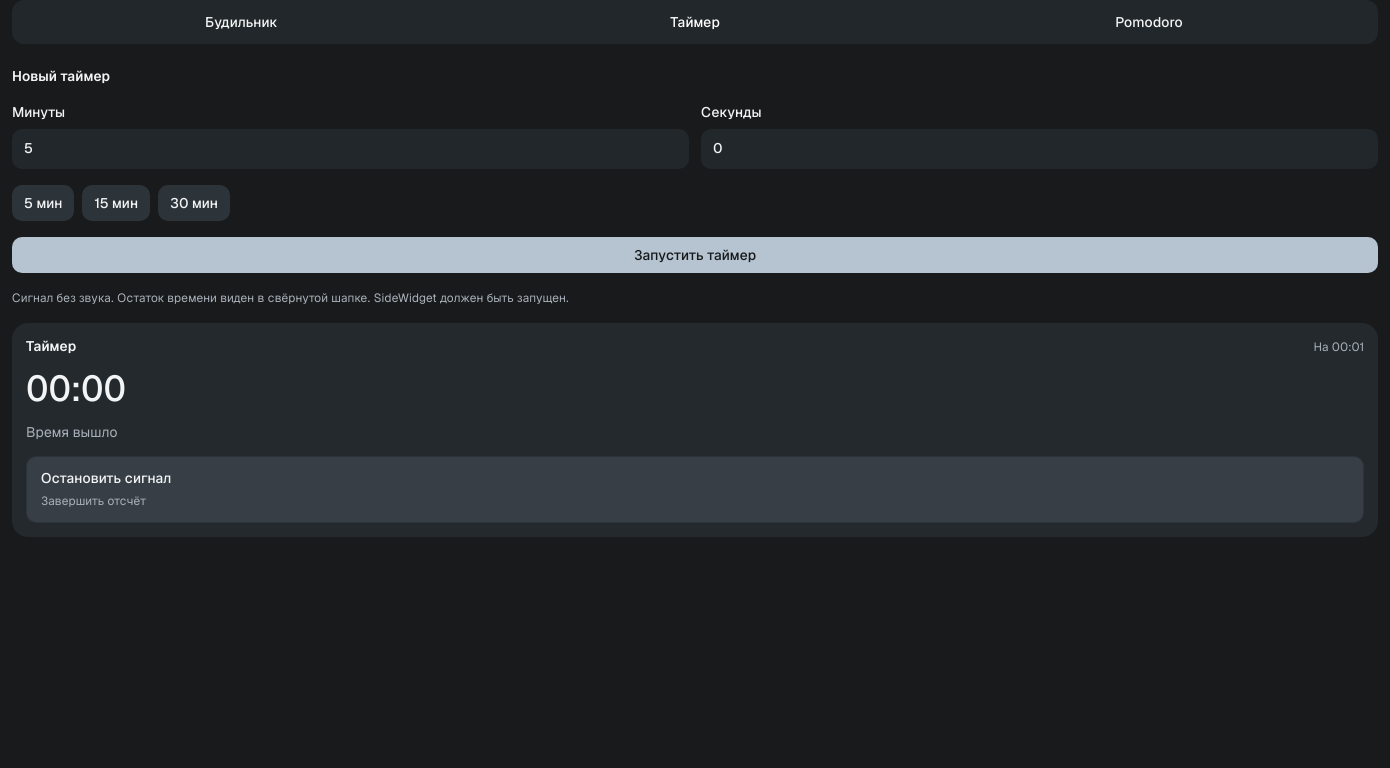
restores an overdue persisted session and rejects invalid duration
The image size is (1390, 768).
Click the button "Остановить сигнал Завершить отсчёт".
click(106, 478)  # box top-left (26, 456), bottom-right (1364, 523)
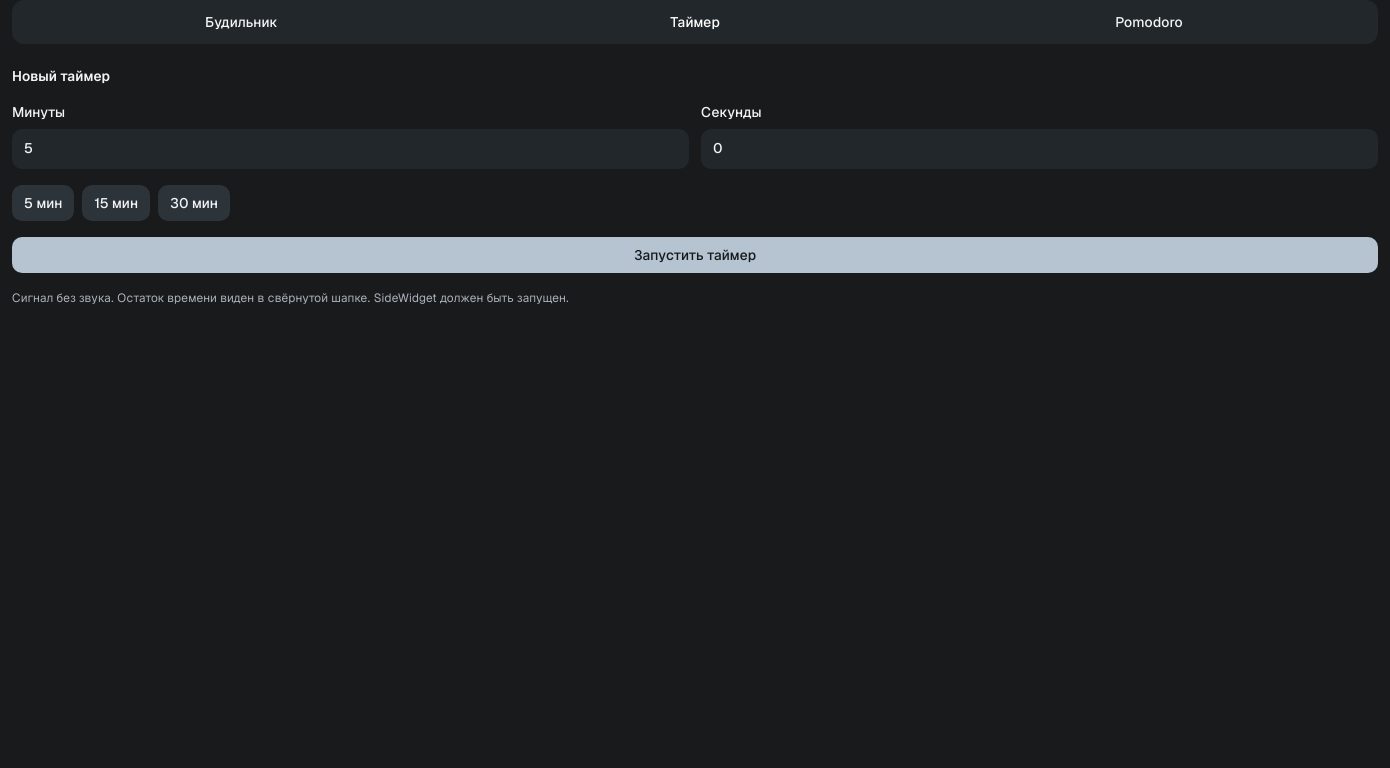
Replace the text in the number field labelled "Минуты" with "0" at (350, 149), box top-left (12, 129), bottom-right (689, 169)
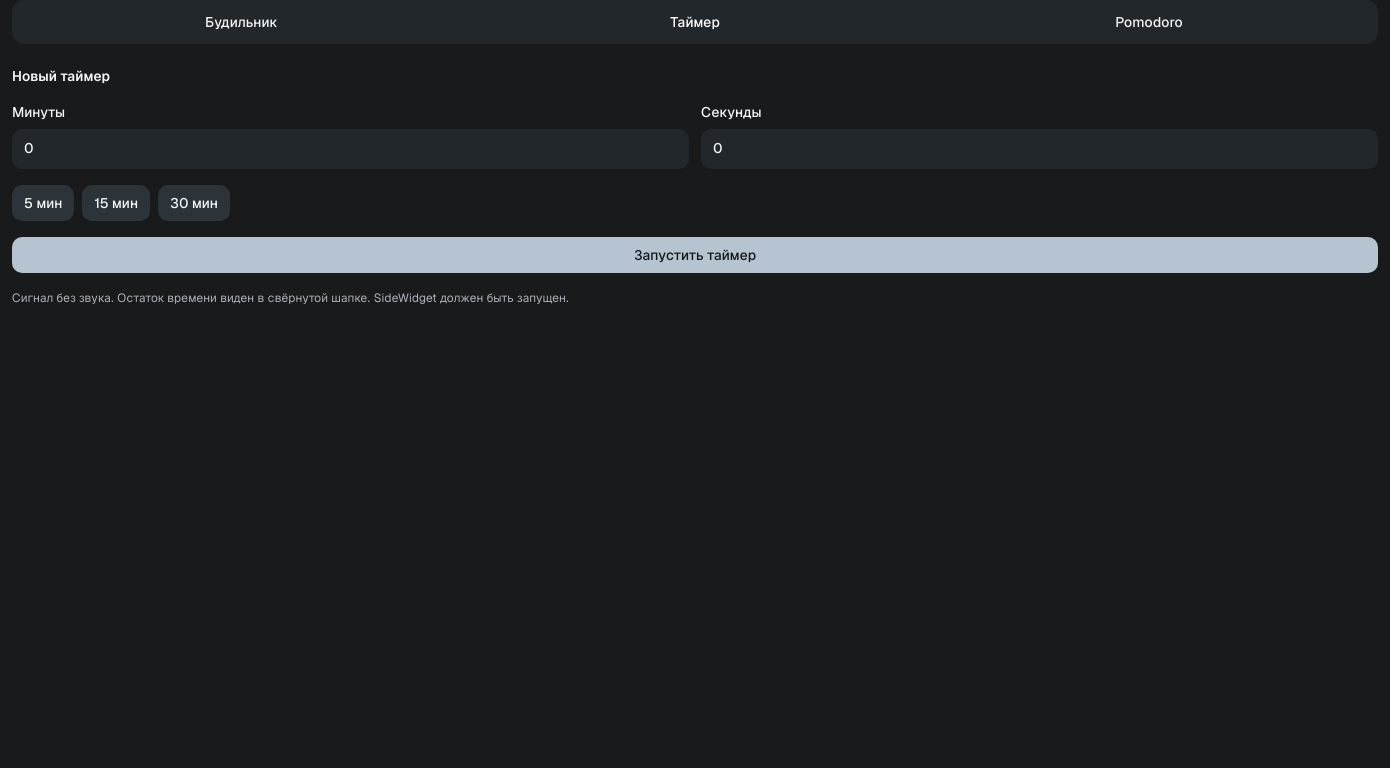
Click the button "Запустить таймер".
click(695, 255)  # box top-left (12, 237), bottom-right (1378, 273)
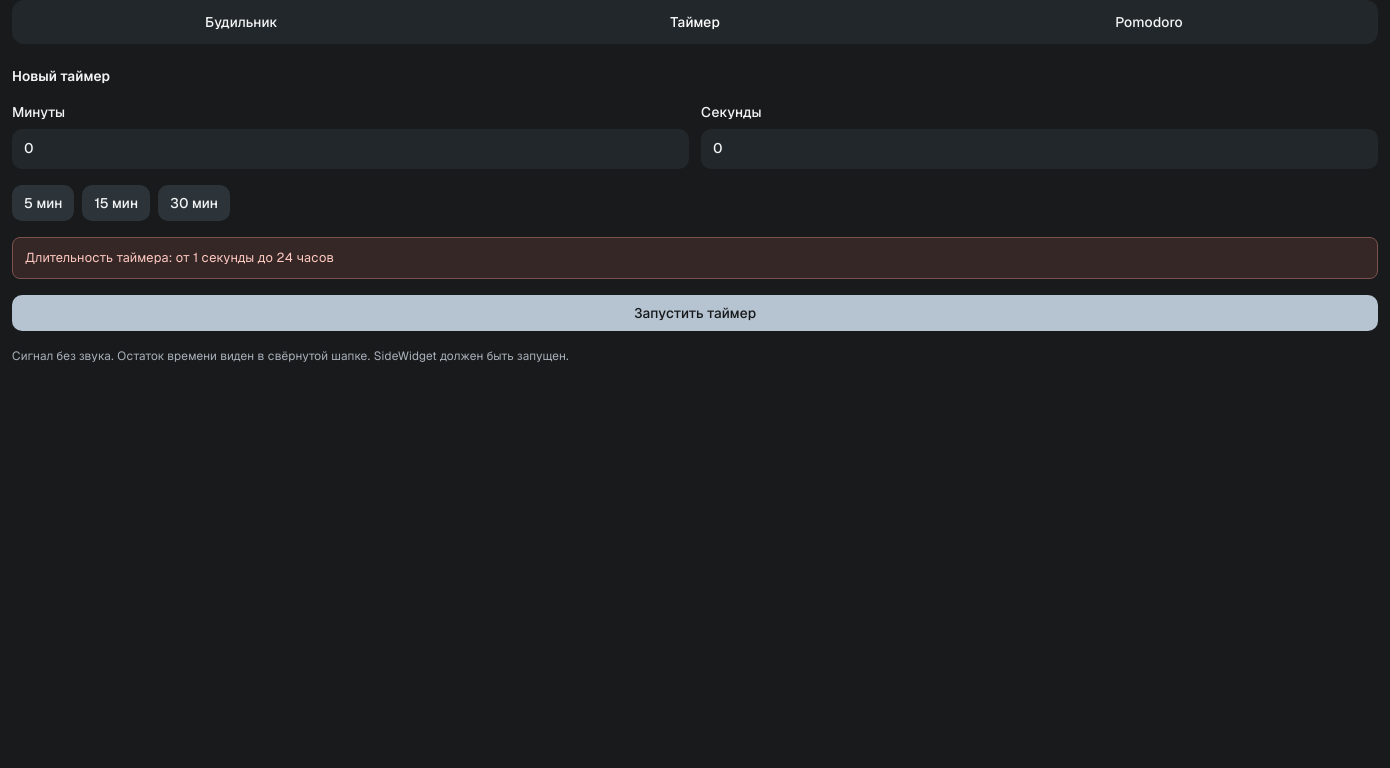
Expected: the message shows "1 секунды", top-left (25, 249), bottom-right (334, 266)
